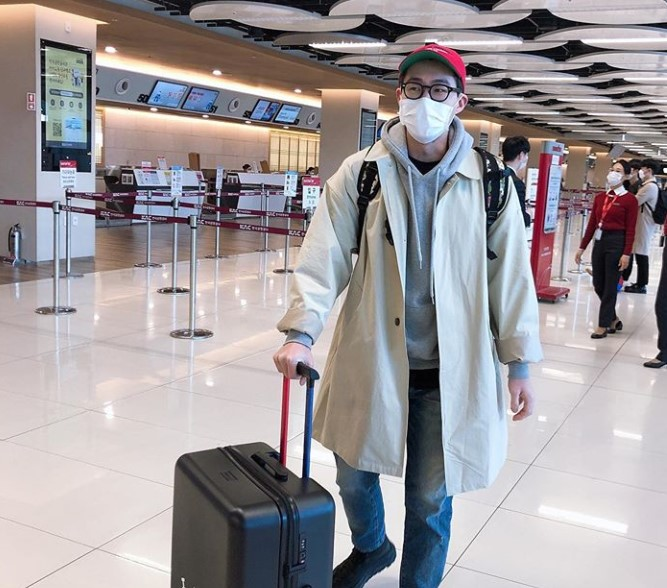face_with_mask: (395, 41, 467, 145), (604, 159, 629, 187)
